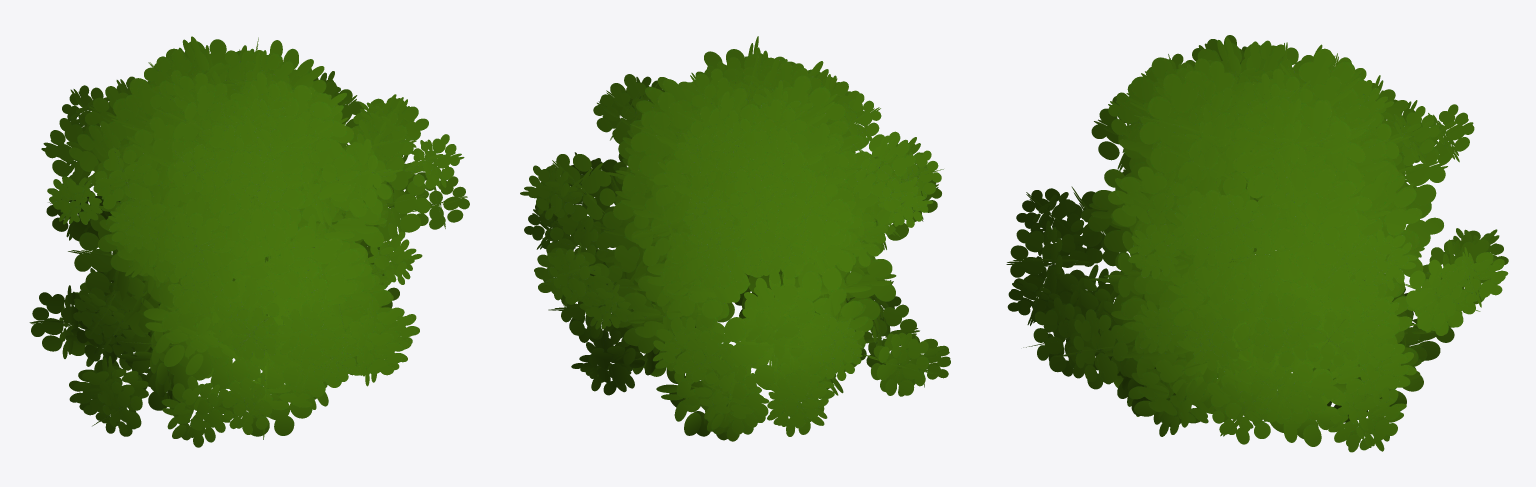
The model's file is Bush_Large.glb.
3 views of the same model, side by side, from view 1: azimuth 30°, elevation 25°; view 2: azimuth 150°, elevation 25°; view 3: azimuth 270°, elevation 25° (orthographic). The views are drawn at different scales.
Parts seen in each view (by area): view 1: Bush_Large; view 2: Bush_Large; view 3: Bush_Large.
Boxes of the visible parts, <box> form: Bush_Large: <box>29,36,469,447</box>; Bush_Large: <box>520,36,950,441</box>; Bush_Large: <box>1006,35,1508,452</box>.
Bounding box in the file's own units: 3.6 × 3.25 × 3.67.
1 material, 1 textured.
